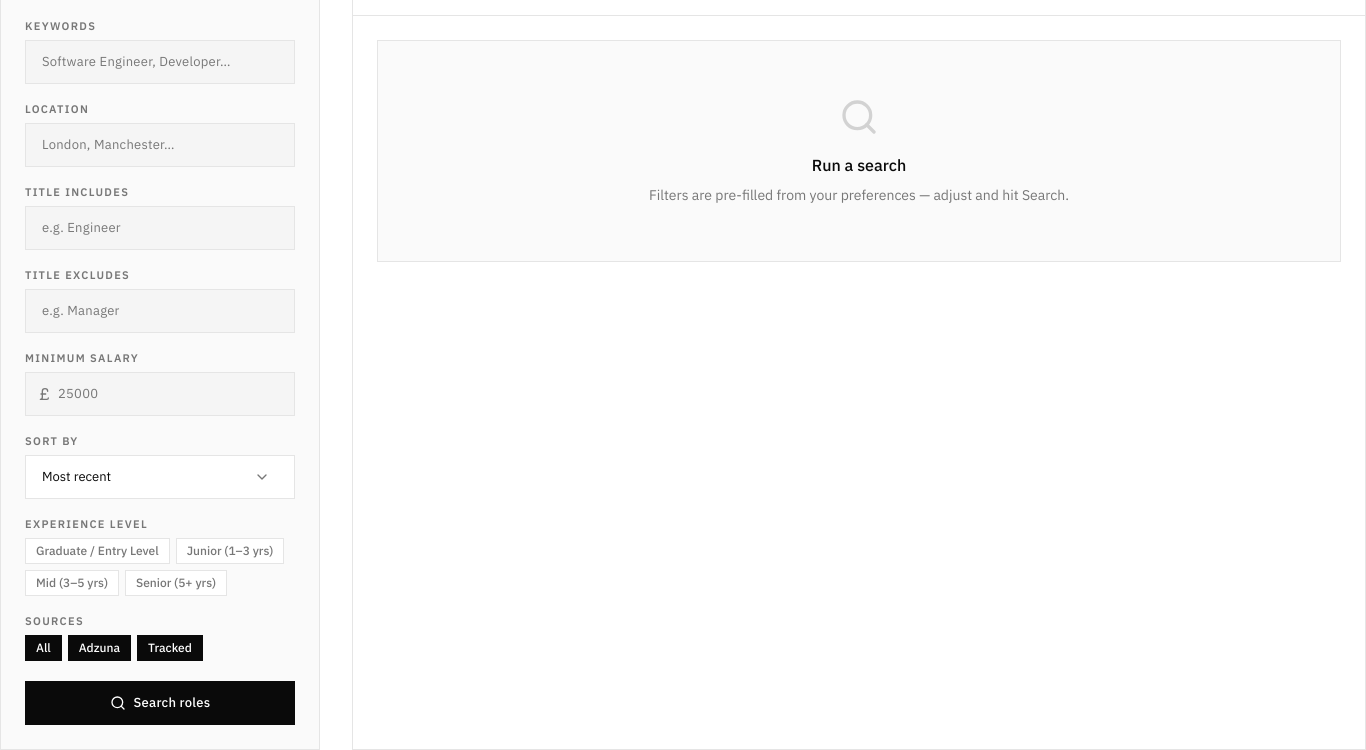
it: JobsFeed › shows a retryable error when the search service fails
(page scrolled)
Click the button "Search roles": click(160, 703) [25,681,295,725]
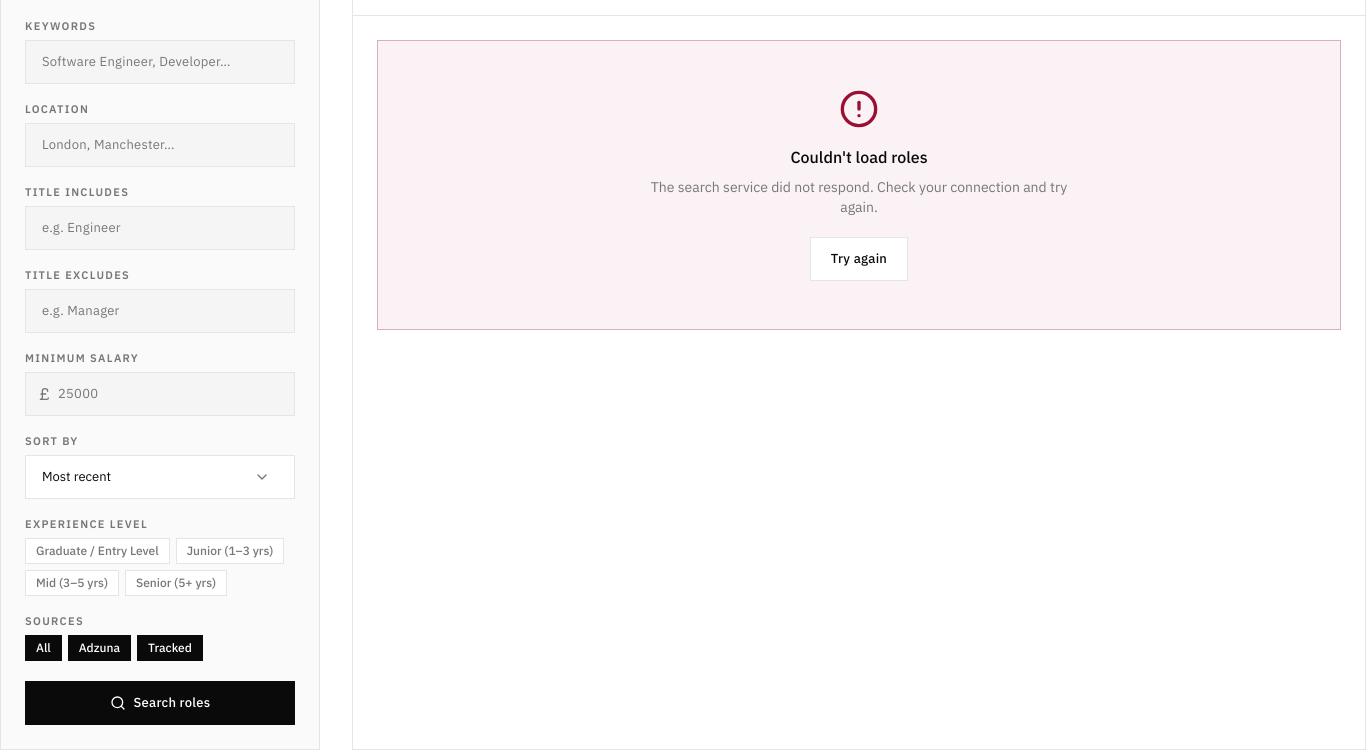
Expected: the text "Couldn't load roles" is shown, [790,146,928,166]
Expected: the button "Try again" is enabled, [810,236,908,280]
